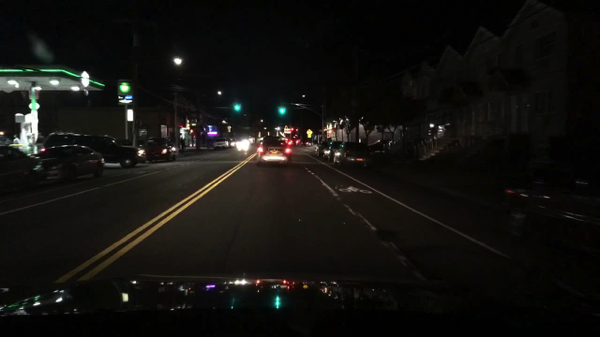car: (503, 169, 599, 245), (44, 131, 140, 169), (27, 143, 105, 186), (0, 145, 44, 194), (334, 140, 373, 170), (136, 135, 177, 163), (258, 133, 292, 166), (322, 142, 344, 162), (367, 138, 389, 152), (212, 136, 229, 150), (181, 137, 188, 163), (314, 143, 322, 157), (294, 138, 304, 148), (230, 138, 237, 147)
traffic light: (229, 101, 243, 113), (276, 105, 289, 117)
traffic sign: (125, 108, 136, 121), (306, 128, 312, 140)
